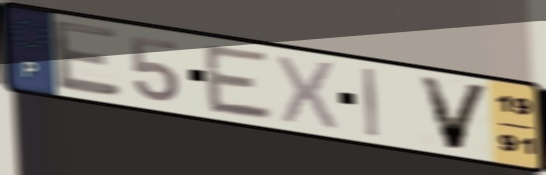5: (127, 32, 183, 104)
E: (49, 16, 125, 99), (200, 41, 276, 124)
I: (360, 65, 382, 140)
V: (414, 72, 494, 153)
X: (274, 52, 340, 134)
